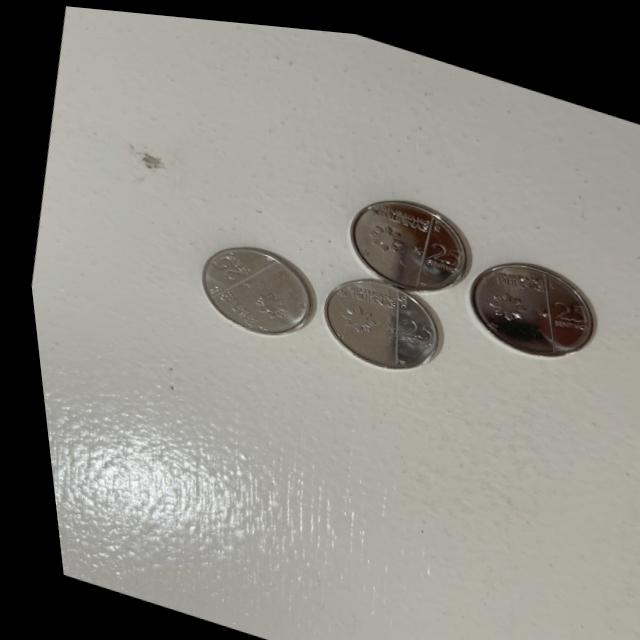25Cent_New_Front: (537, 281, 592, 329), (387, 302, 440, 350), (413, 223, 463, 272), (199, 241, 254, 284)
